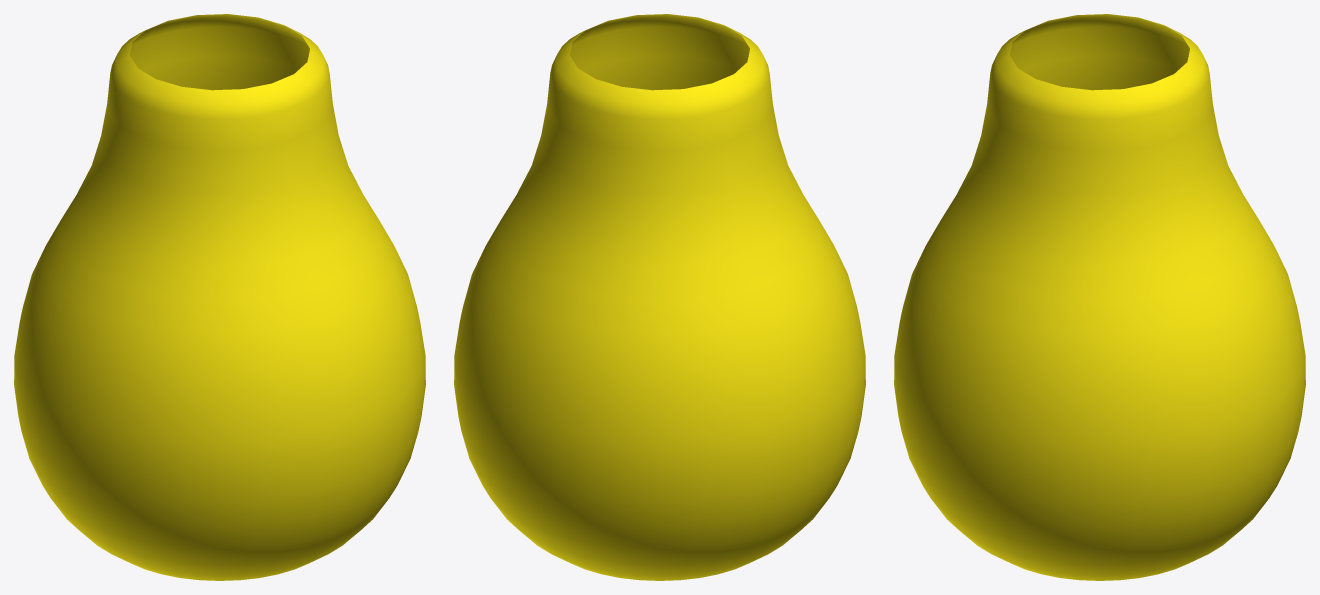
File: FOCO_COCINA.obj
The picture shows the model from 3 angles, left to right: view 1: azimuth 30°, elevation 25°; view 2: azimuth 150°, elevation 25°; view 3: azimuth 270°, elevation 25°; orthographic projection.
Parts seen in each view (by area): view 1: FOCOS.003; view 2: FOCOS.003; view 3: FOCOS.003.
Part boxes in pixels (box(x1,y1,x2,y2)): FOCOS.003: box(14, 14, 425, 580); FOCOS.003: box(454, 14, 865, 580); FOCOS.003: box(894, 14, 1305, 580).
Size of the model in its own units: 0.095 by 0.1284 by 0.095.
Materials: 1 (1 with a texture image).
